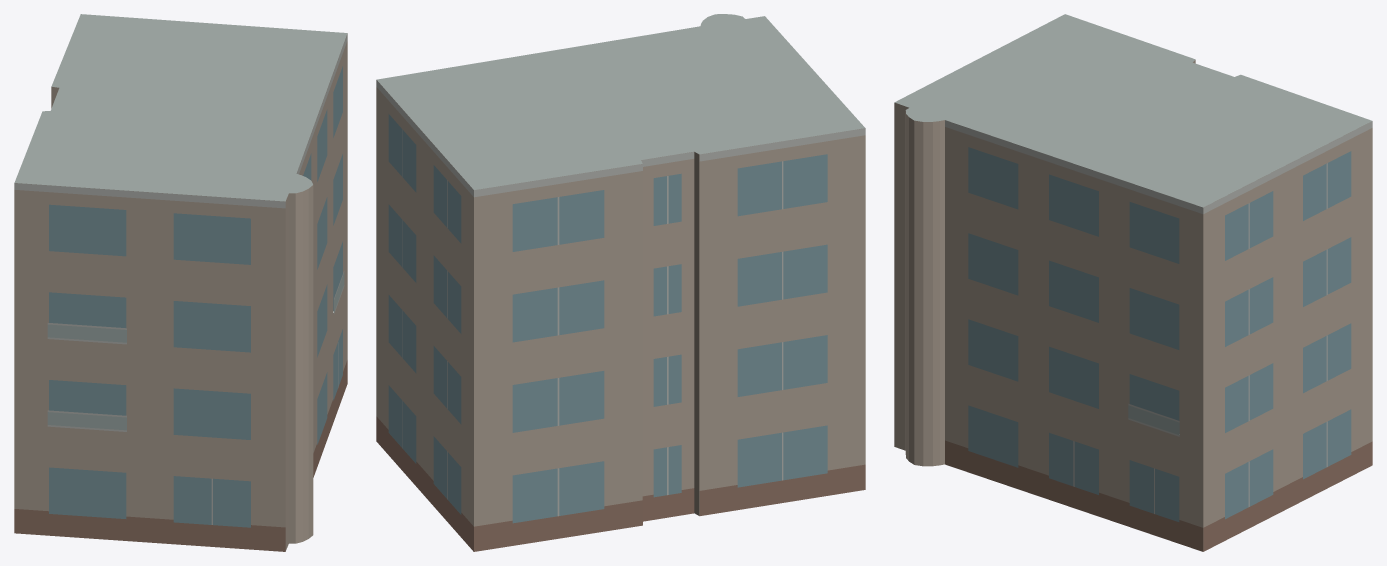
Rendered from survey-upis-32534660.glb.
3 views of the same model, side by side, from view 1: azimuth 30°, elevation 25°; view 2: azimuth 150°, elevation 25°; view 3: azimuth 270°, elevation 25° (orthographic). The views are drawn at different scales.
Visible parts, largest first — view 1: survey-upis-32534660.tmp; view 2: survey-upis-32534660.tmp; view 3: survey-upis-32534660.tmp.
Boxes of the visible parts, <box> form: survey-upis-32534660.tmp: <box>14,14,347,551</box>; survey-upis-32534660.tmp: <box>376,14,865,551</box>; survey-upis-32534660.tmp: <box>894,14,1372,551</box>.
Bounding box in the file's own units: 14.95 × 12.4 × 15.62.
